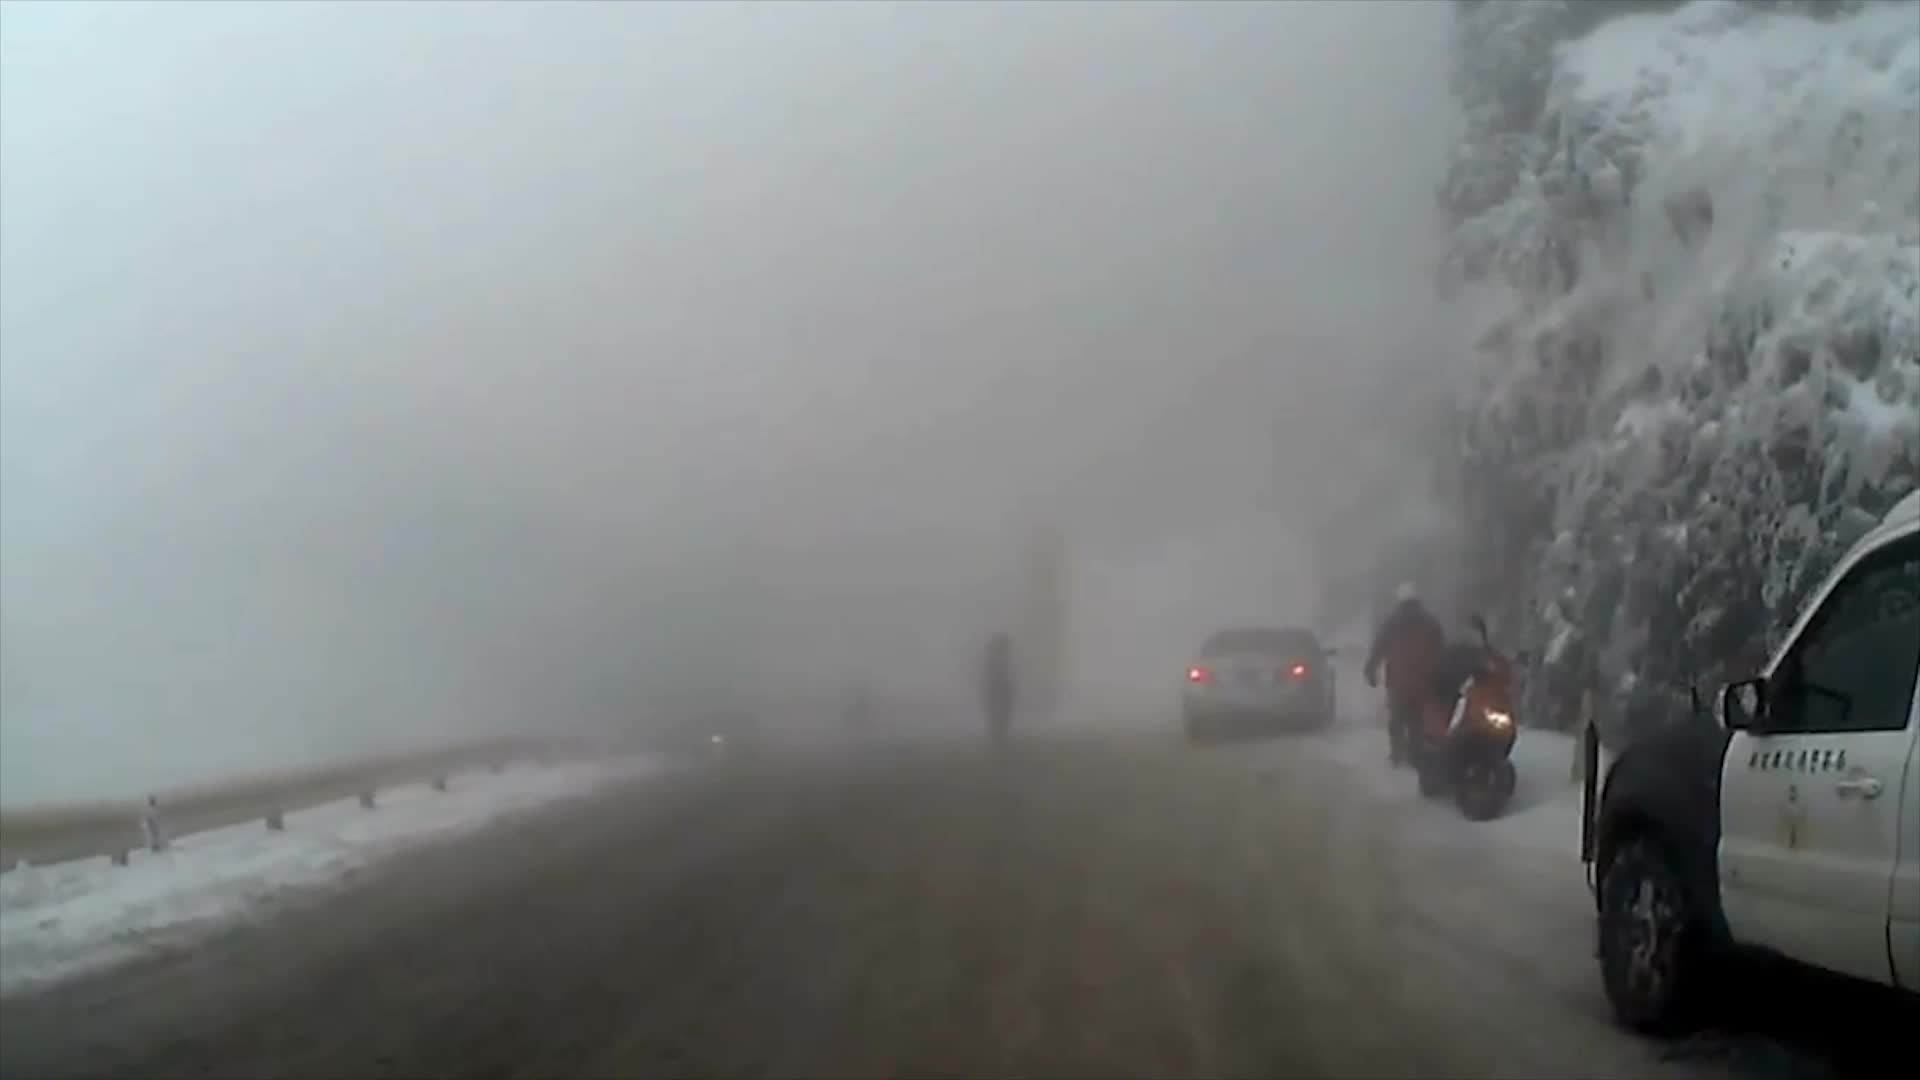pedestrian: (1364, 574, 1458, 768), (984, 632, 1020, 758)
vehicle: (1577, 494, 1917, 1080), (1177, 620, 1338, 743)
